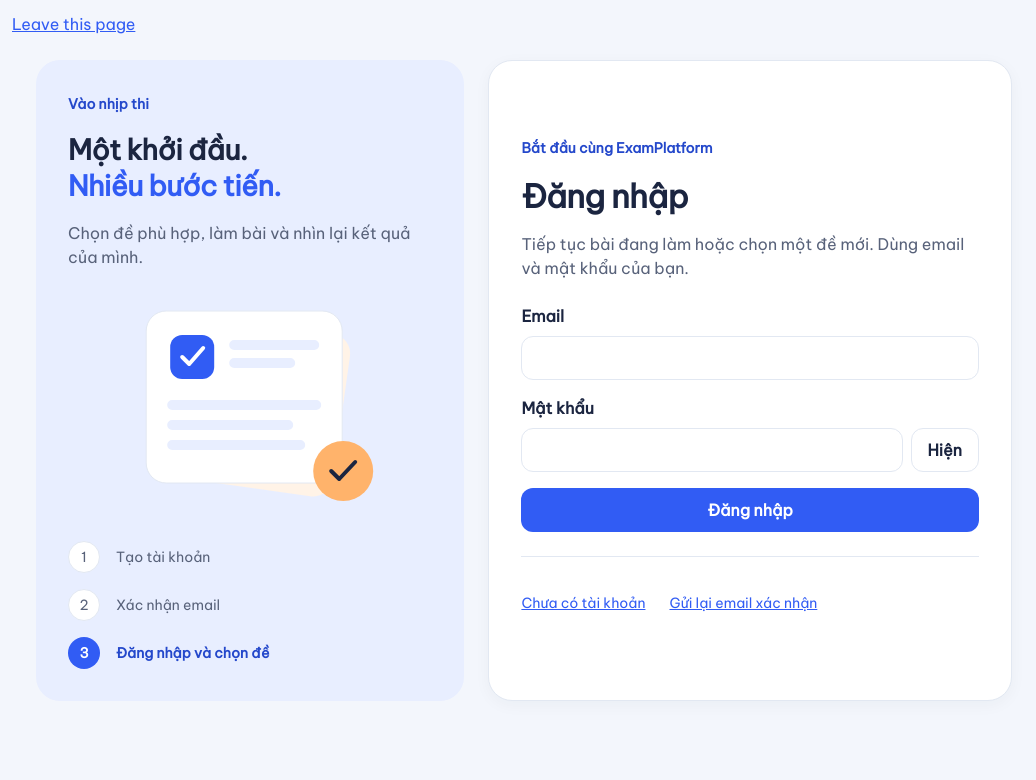
it: identity request and session fences › does not read or adopt a profile after a late login acknowledgement on another route
Type "person@example.test" into the field labelled "Email".
click(750, 358); type("person@example.test")  # box [521, 336, 979, 380]
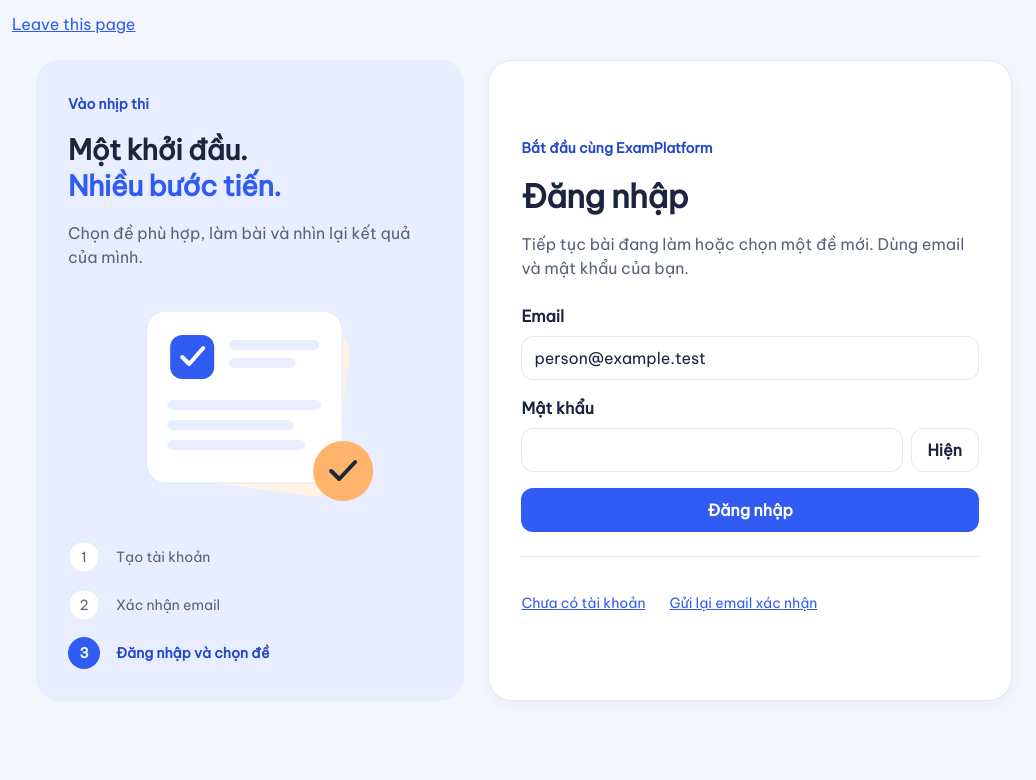
Type "fixture-password-ok" into the password field labelled "Mật khẩu".
click(712, 450); type("fixture-password-ok")  # box [521, 428, 902, 472]
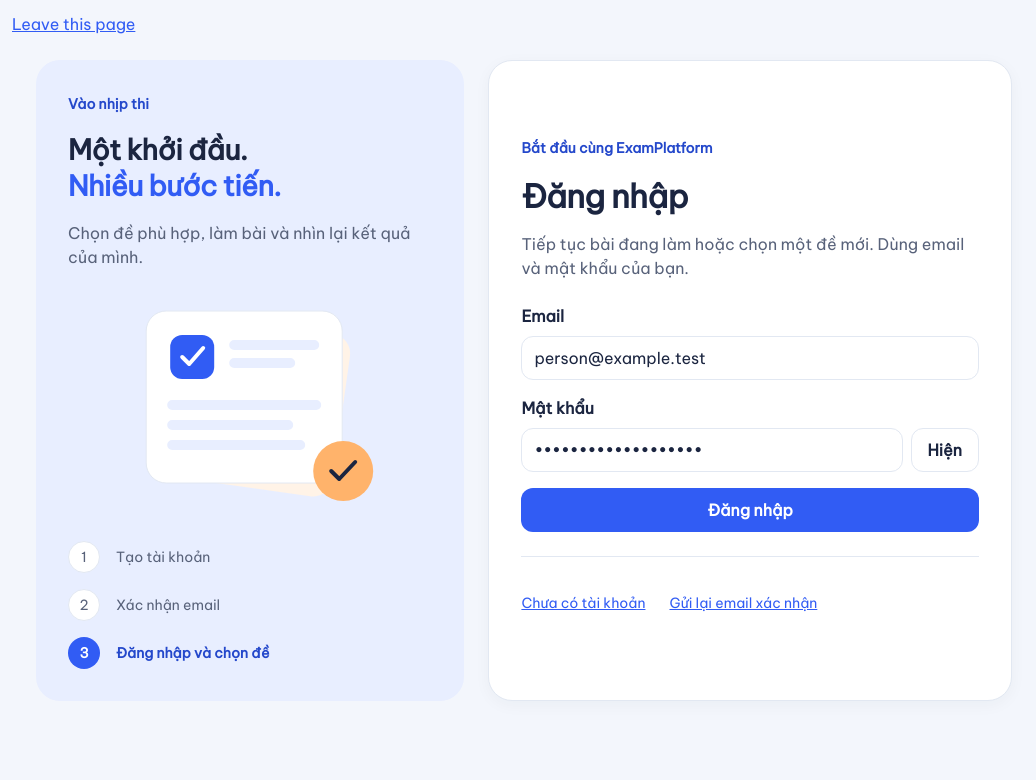
Click the button "Đăng nhập".
click(750, 510)  # box [521, 488, 979, 532]
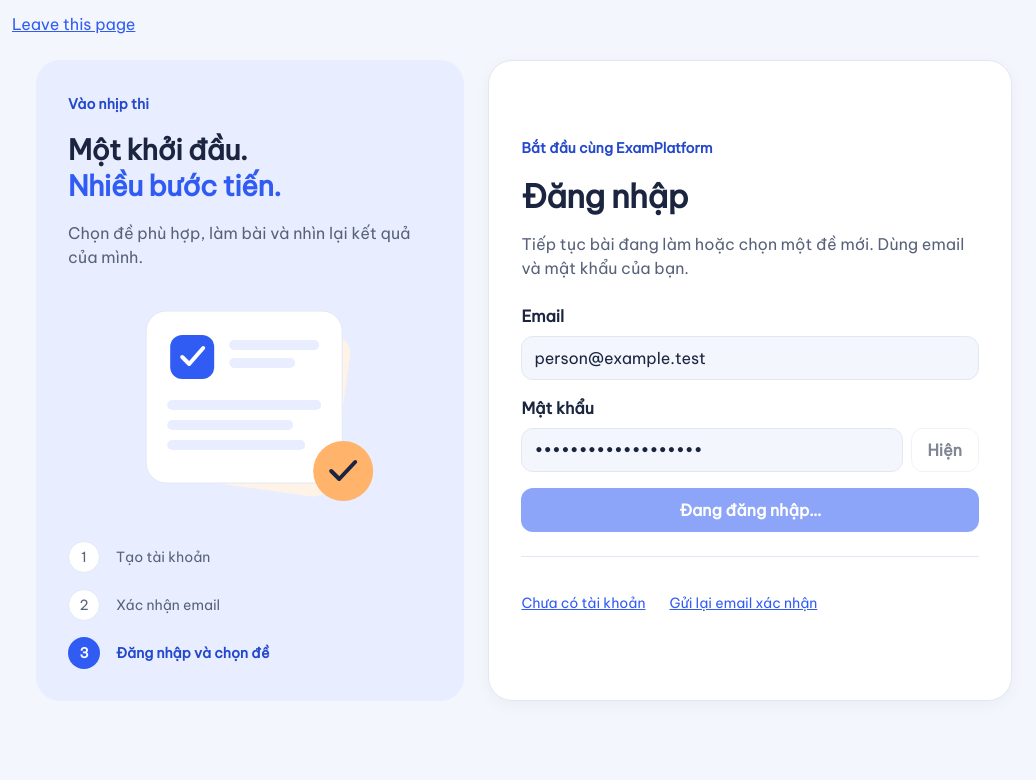
Click the link "Leave this page".
click(74, 24)  # box [12, 14, 135, 34]
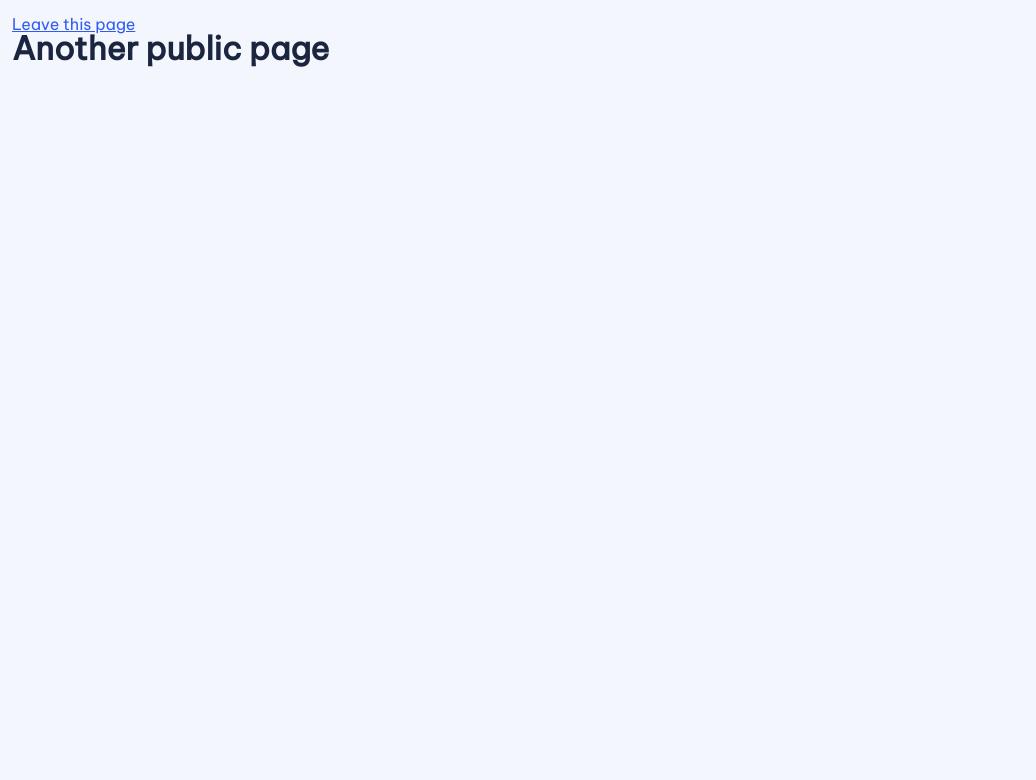
Check: the heading "Another public page" is shown, box [12, 28, 329, 68]
